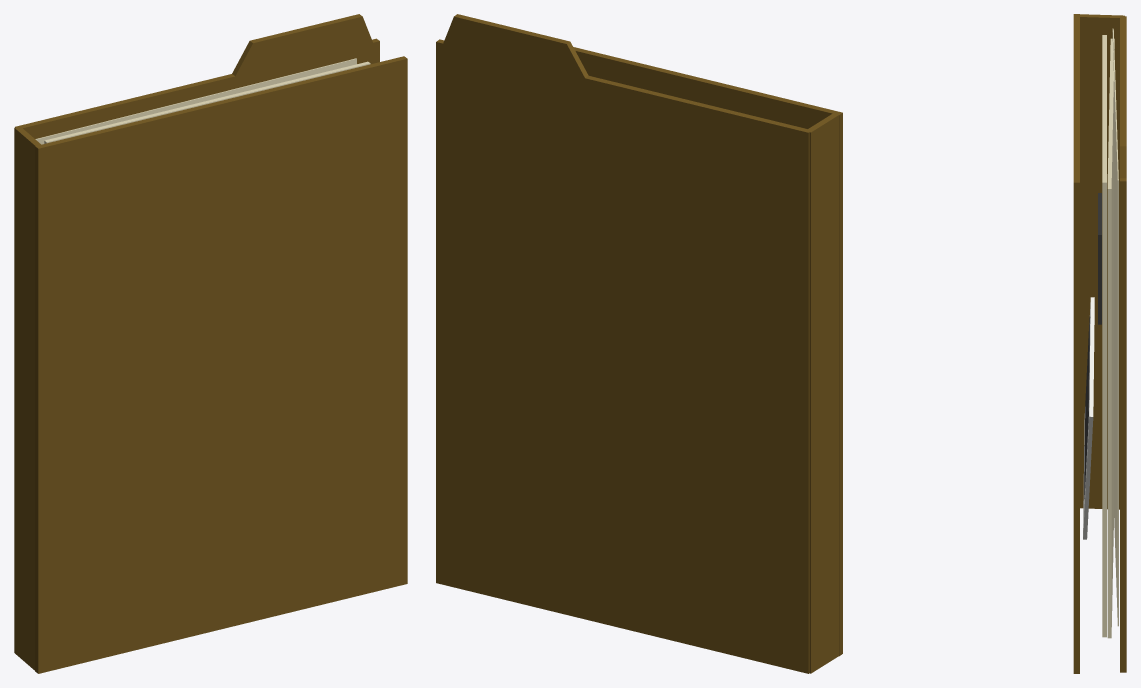
The model's file is detective-dossier.glb.
3 views of the same model, side by side, from view 1: azimuth 30°, elevation 25°; view 2: azimuth 150°, elevation 25°; view 3: azimuth 270°, elevation 25° (orthographic). The views are drawn at different scales.
Visible parts, largest first — view 1: FolderFront, FolderSpine, FolderBack, FolderTab, PaperStack_02, MainDocument; view 2: FolderBack, FolderSpine, FolderFront, FolderTab; view 3: FolderSpine, FolderFront, FolderBack, PaperStack_01, MainDocument, PaperStack_02, Polaroid_02_Frame, FolderTab, Polaroid_02_Image, PhotoPlane_1.
Part boxes in pixels (left/top/right/bottom): FolderFront: left=35, top=56, right=407, bottom=673; FolderSpine: left=14, top=126, right=41, bottom=670; FolderBack: left=15, top=38, right=379, bottom=138; FolderTab: left=232, top=14, right=372, bottom=76; PaperStack_02: left=35, top=58, right=356, bottom=144; MainDocument: left=44, top=61, right=370, bottom=143; FolderBack: left=436, top=39, right=811, bottom=673; FolderSpine: left=806, top=113, right=839, bottom=673; FolderFront: left=573, top=47, right=842, bottom=656; FolderTab: left=443, top=14, right=588, bottom=78; FolderSpine: left=1078, top=14, right=1124, bottom=509; FolderFront: left=1073, top=14, right=1079, bottom=673; FolderBack: left=1120, top=16, right=1126, bottom=672; PaperStack_01: left=1107, top=38, right=1114, bottom=638; MainDocument: left=1102, top=35, right=1106, bottom=637; PaperStack_02: left=1112, top=28, right=1118, bottom=626; Polaroid_02_Frame: left=1083, top=297, right=1094, bottom=539; FolderTab: left=1120, top=96, right=1126, bottom=178; Polaroid_02_Image: left=1084, top=316, right=1090, bottom=498; PhotoPlane_1: left=1098, top=193, right=1101, bottom=324.
Size of the model in its own units: 3.42 by 4.9 by 2.19.
